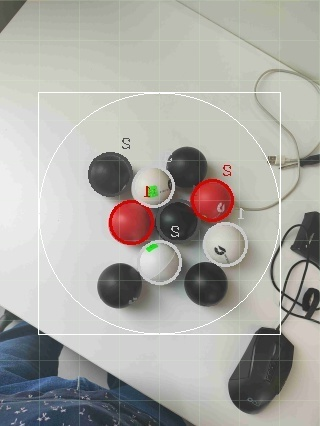Pelota blanca: (252, 65, 320, 163), (234, 153, 302, 211), (95, 262, 145, 310), (138, 238, 185, 286), (202, 220, 249, 267), (130, 166, 177, 208), (0, 0, 28, 32)
Pelota negra: (0, 318, 191, 425), (228, 331, 294, 416), (87, 150, 135, 198), (98, 262, 145, 310), (183, 260, 230, 307), (167, 145, 209, 190), (157, 198, 199, 243)
Pelota roja: (109, 198, 156, 246), (189, 177, 236, 224)
